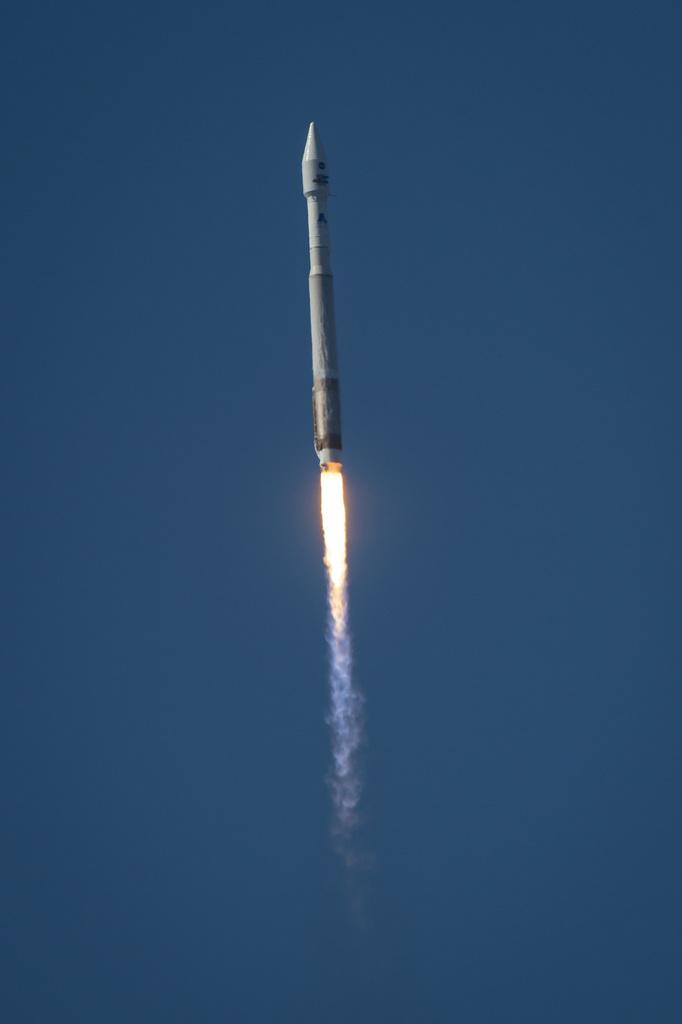Missile: (295, 114, 345, 477)
